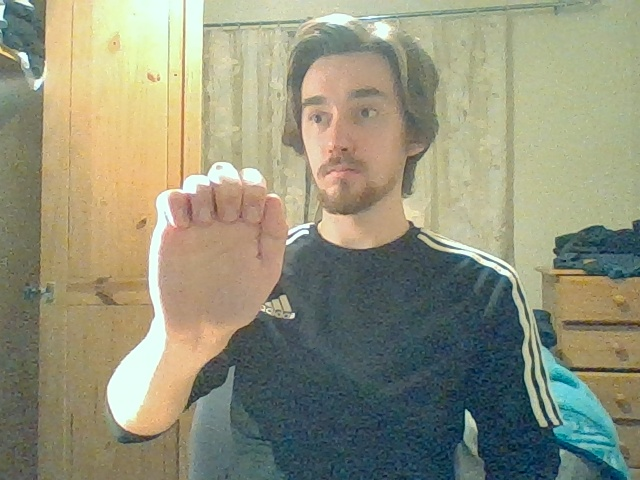your: (148, 162, 289, 325)
